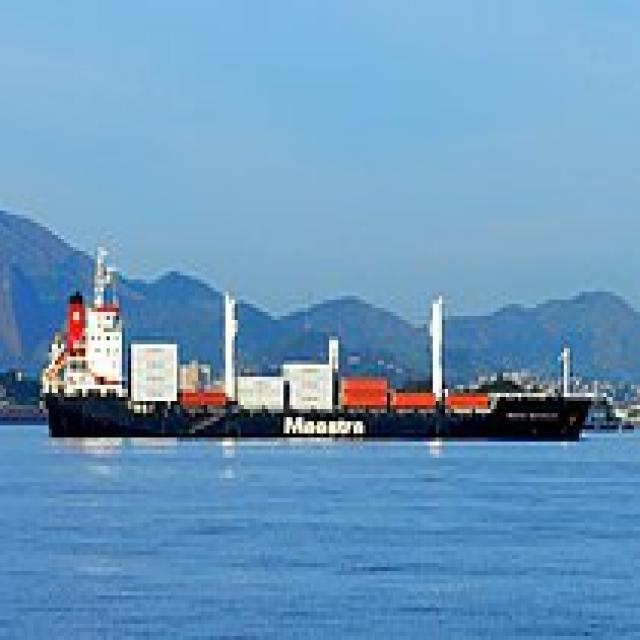Ship: (38, 241, 599, 451)
